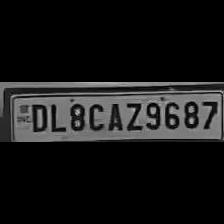6: (162, 98, 180, 130)
7: (199, 97, 219, 130)
8: (66, 100, 86, 132), (180, 97, 198, 129)
9: (142, 98, 162, 130)
A: (105, 100, 123, 132)
C: (85, 99, 105, 131)
D: (26, 100, 48, 134)
L: (47, 100, 65, 134)
Z: (122, 98, 142, 132)
